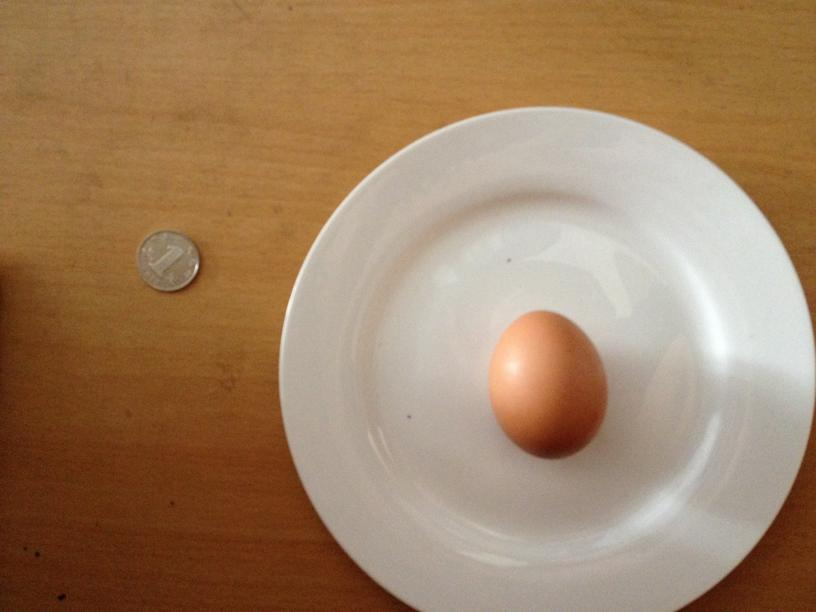coin: (138, 229, 200, 293)
egg: (485, 307, 607, 459)
